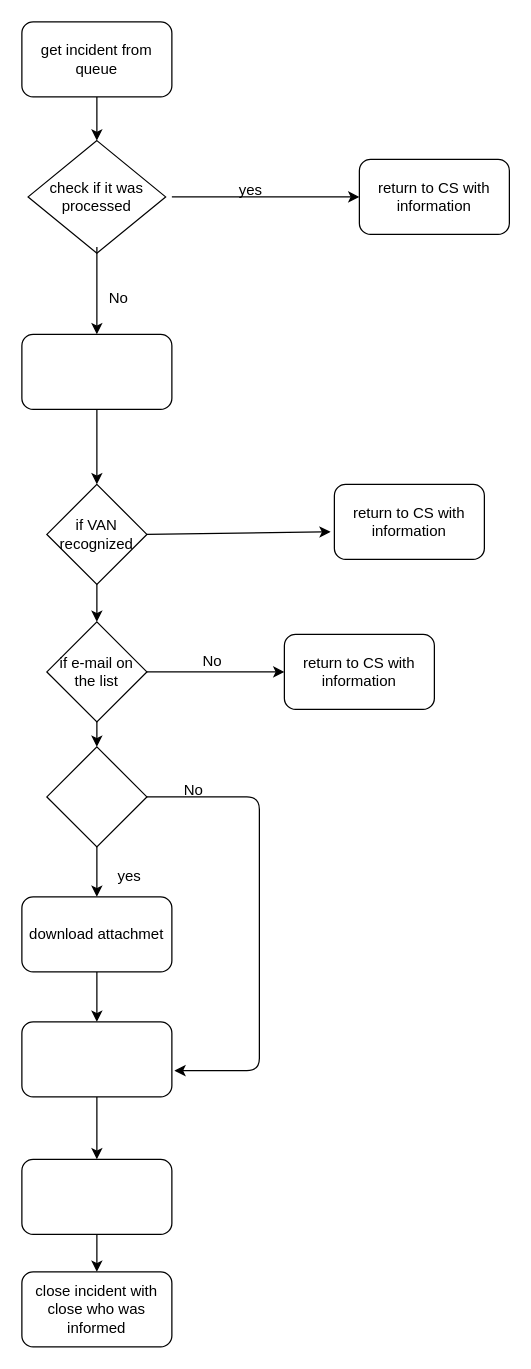
Some shapes in this 531 by 1369 pixel diagram are drawn without their labels. Here are the shapes that lost their labels. From the top down, the box of each, then its label:
(21, 333, 172, 409): get data from incident
(46, 746, 147, 847): if Pagero
(21, 1021, 172, 1097): prepare message
(21, 1158, 172, 1234): send e-mail
